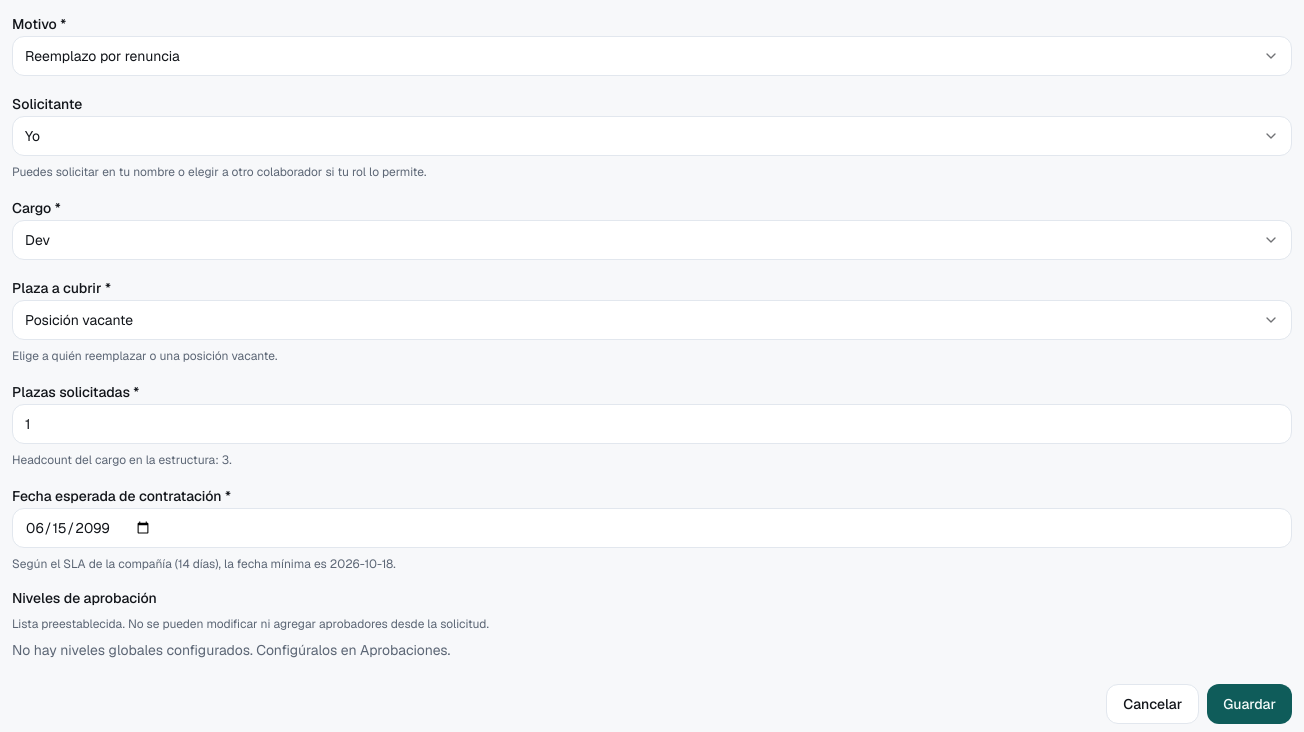
Scenario: VacancyRequestForm requester field › lists vacant plazas next to occupants of the cargo
What coordinates should you click on to do the following:
click the dropdown labelled "Posición vacante"
I would click on:
 (79, 320)
Its box is [12, 300, 1292, 340].
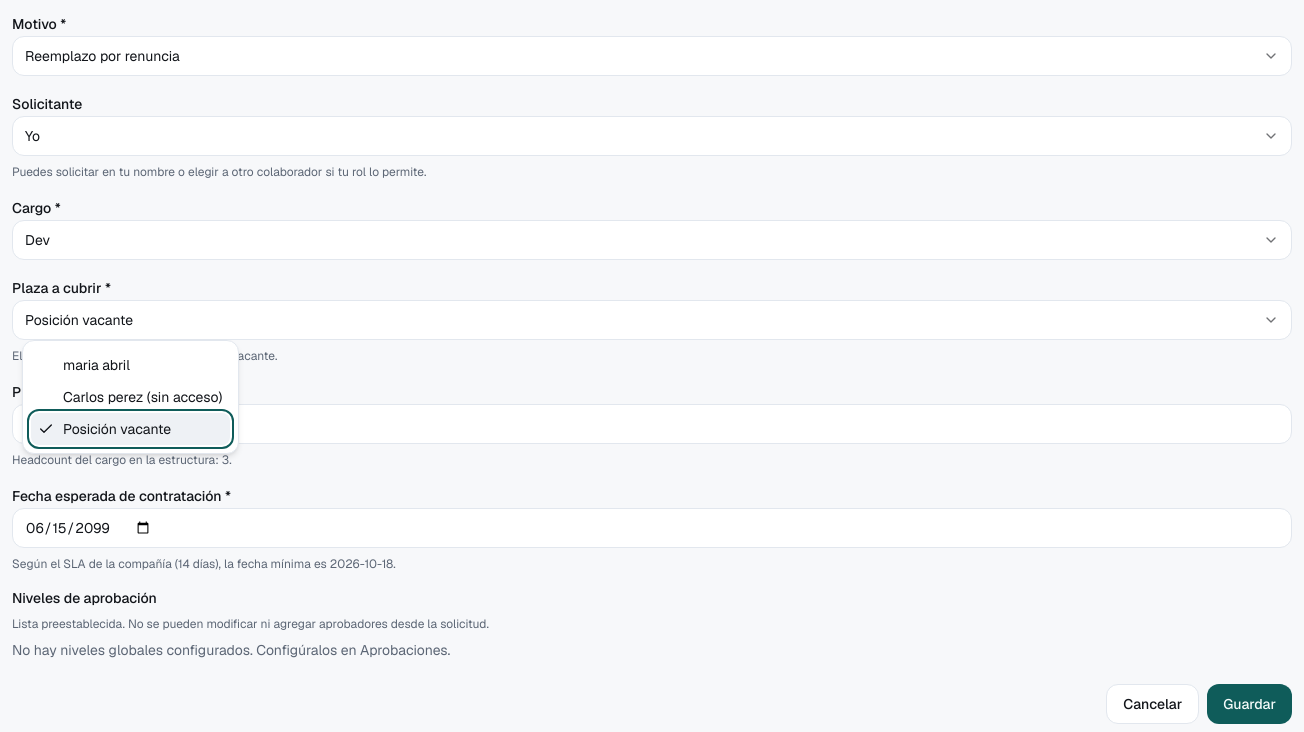
Check: the option "maria abril" is shown, box [63, 356, 130, 374]
Check: the option "Carlos perez (sin acceso)" is shown, box [63, 388, 222, 406]
Check: the option "Posición vacante" is shown, box [31, 413, 230, 445]
